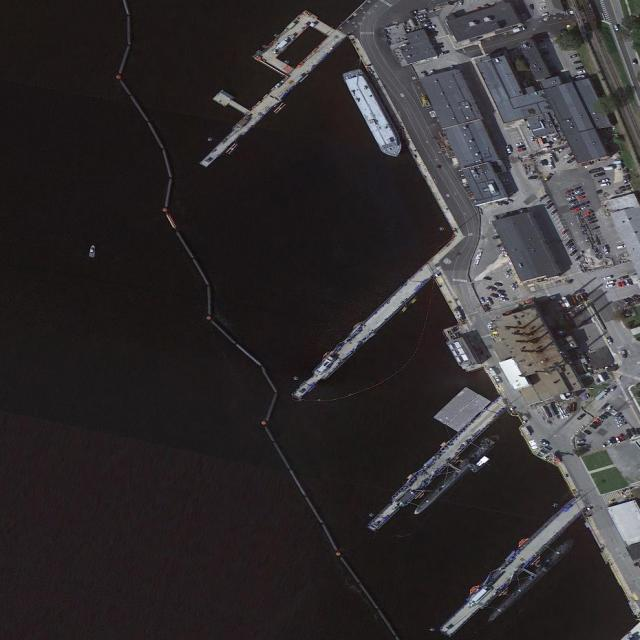Cargo: (339, 63, 407, 164)
Dock: (199, 25, 348, 172), (289, 262, 440, 403), (362, 396, 508, 536), (442, 498, 582, 634)
Submarine: (412, 432, 498, 516), (487, 539, 572, 621)
